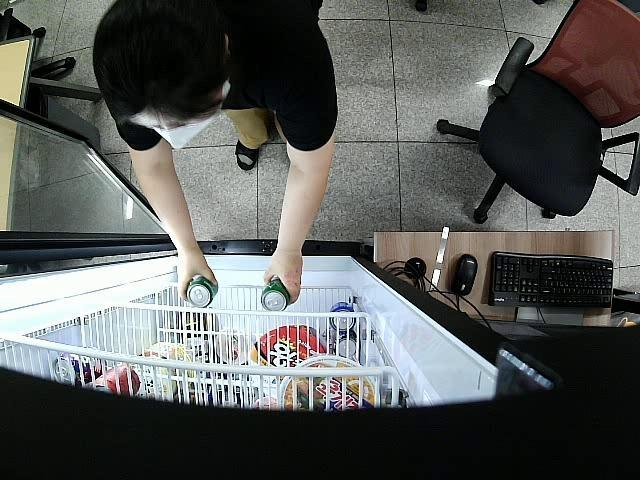12_chilsungCider: (260, 278, 290, 312), (186, 278, 216, 308)
